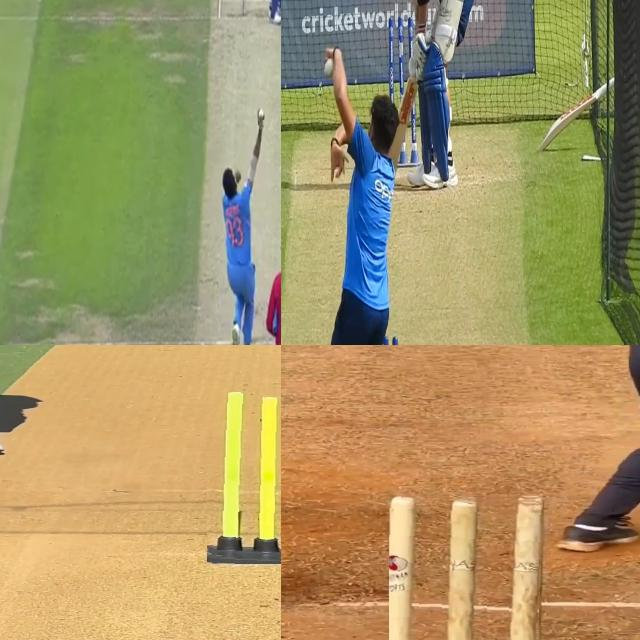Cricket ball: (323, 55, 336, 80), (258, 106, 266, 125)
Stumps: (389, 494, 543, 640), (207, 388, 281, 564), (386, 15, 418, 172)
